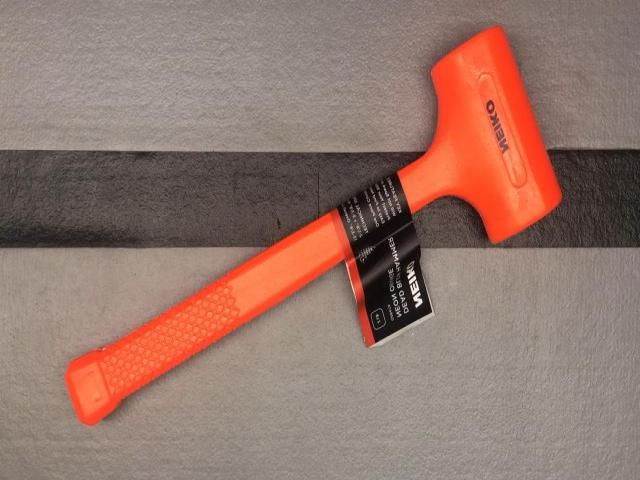hammer: (67, 25, 566, 427)
